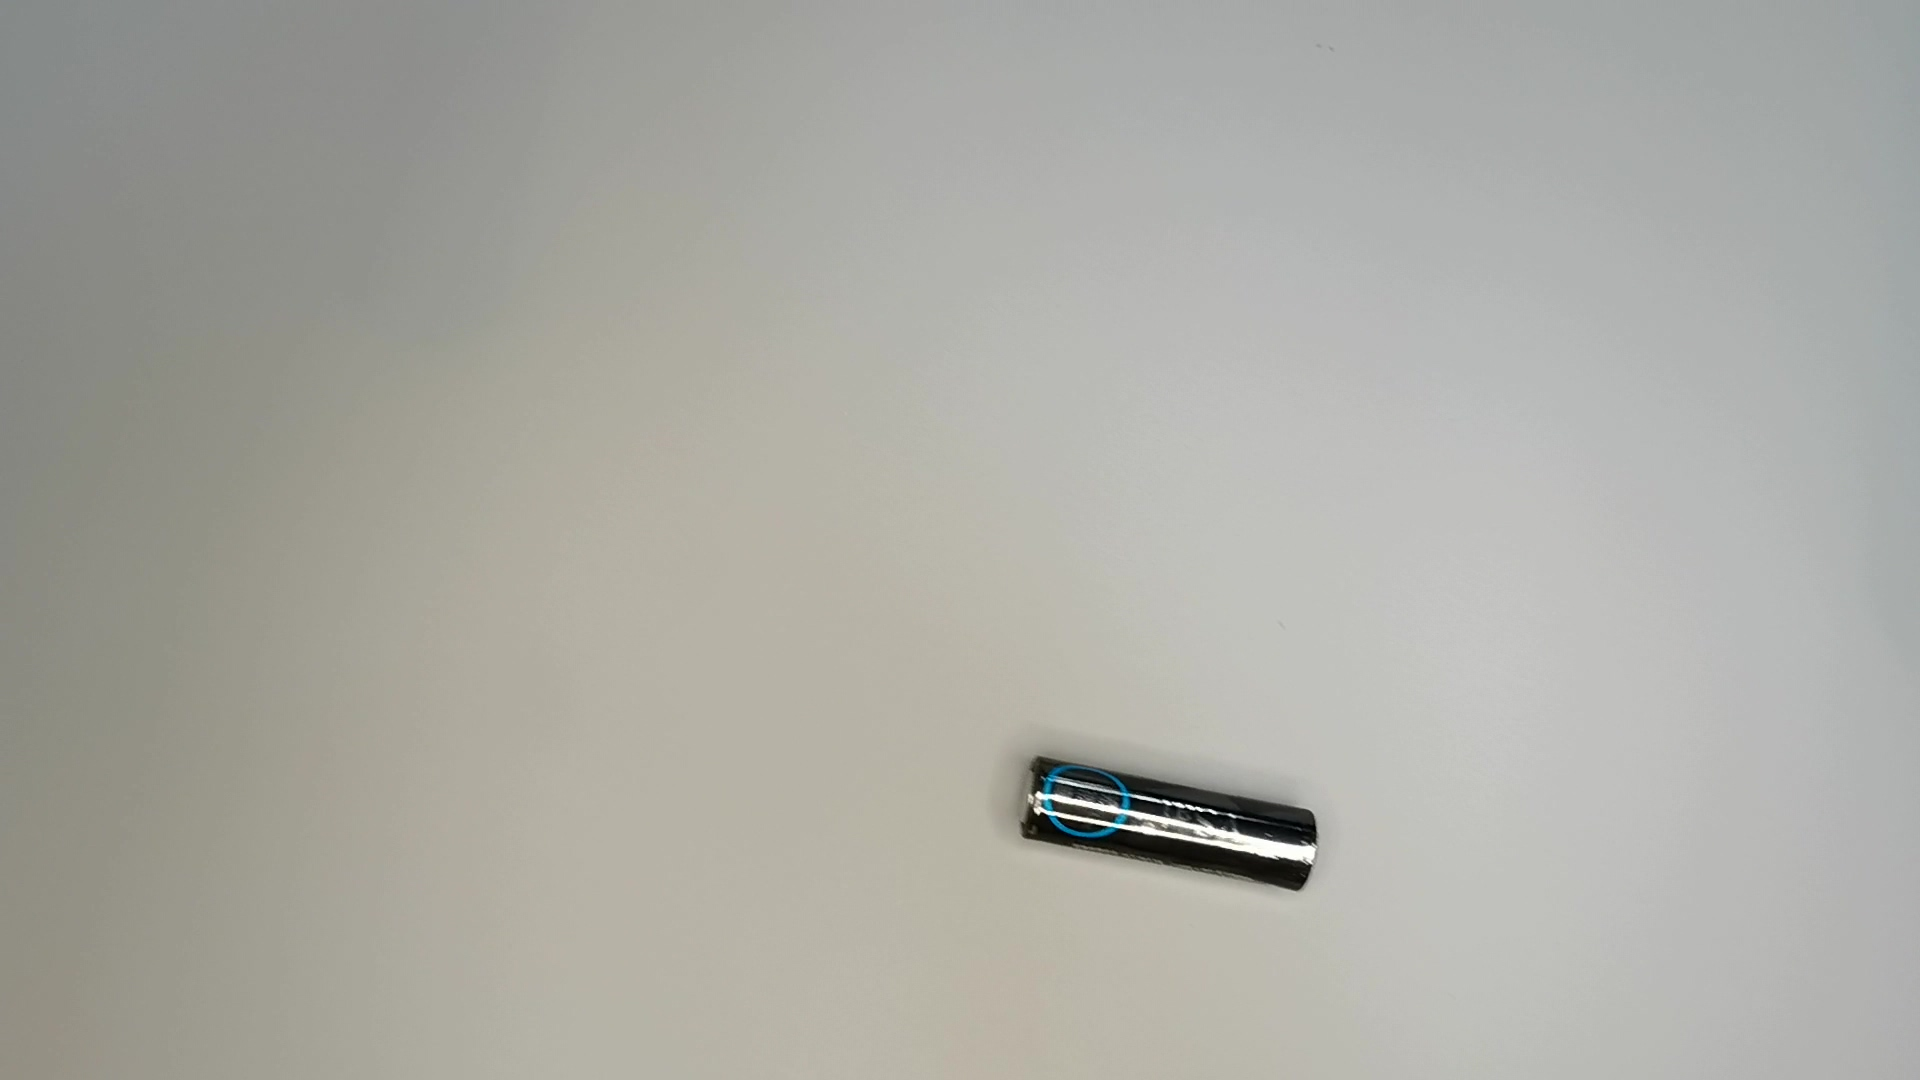battery: (1007, 754, 1328, 899)
